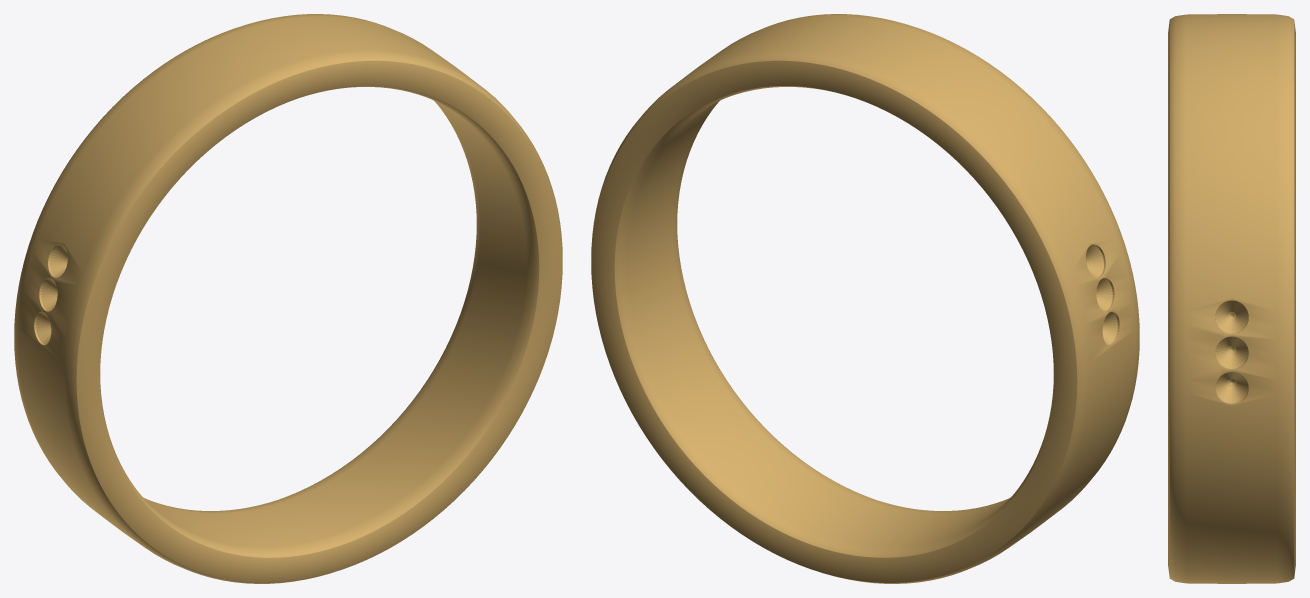
The model's file is wide-micro-pave-multi.glb.
The picture shows the model from 3 angles, left to right: view 1: azimuth 30°, elevation 25°; view 2: azimuth 150°, elevation 25°; view 3: azimuth 270°, elevation 25°; orthographic projection.
Visible parts, largest first — view 1: Band; view 2: Band; view 3: Band.
Boxes of the visible parts, box(x1,y1,x2,y2) form: Band: box(14, 14, 562, 583); Band: box(591, 14, 1139, 583); Band: box(1168, 14, 1295, 583).
Size of the model in its own units: 19.6 by 19.6 by 4.4.
